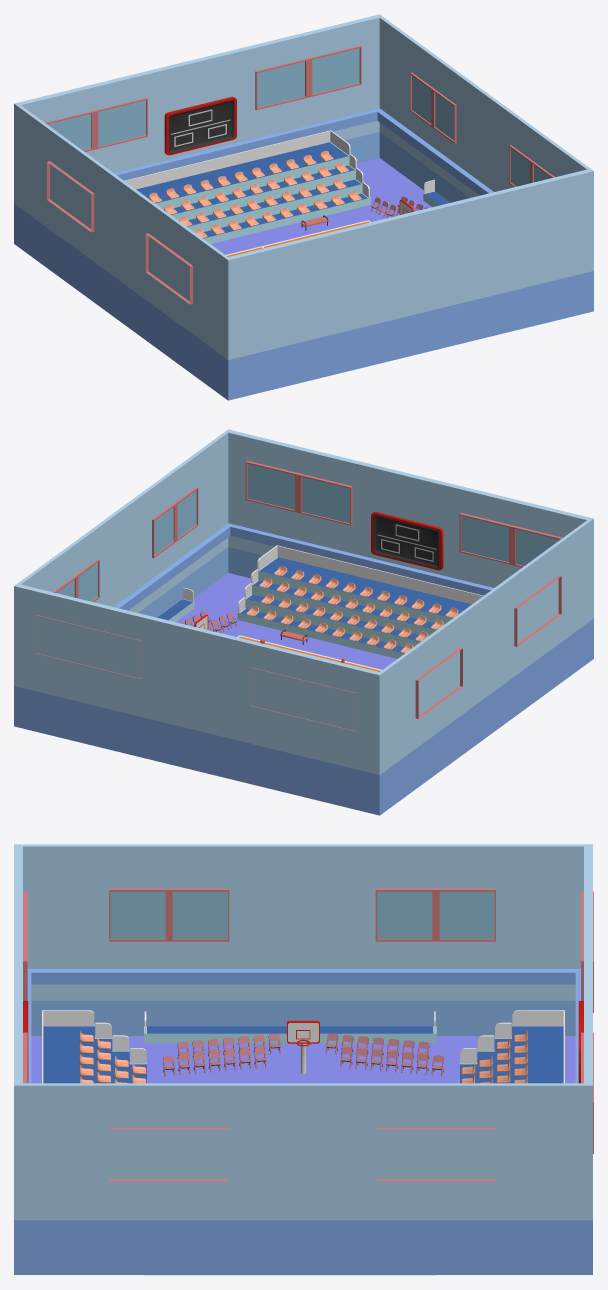
File: New-BasketBall-Court-1.fbx
The picture shows the model from 3 angles, top to bottom: view 1: azimuth 30°, elevation 25°; view 2: azimuth 150°, elevation 25°; view 3: azimuth 270°, elevation 25°; orthographic projection. The views are drawn at different scales.
Parts seen in each view (by area): view 1: Place, Sit, Window.005, Chair.001, Window.002, ScoreTable.001, Window.004, Window.001, Window.007, Window; view 2: Place, Sit.001, Window.003, Chair.002, Window.006, ScoreTable, Window.001, Window.004, Window, SitWall.001, Window.007; view 3: Place, Window.007, Window, Sit.001, Sit, SitWall, Chair.001, Chair.002, Window.001, Window.004, Pota.001.
Boxes of the visible parts, bbox=[...] form: Place: bbox=[14, 14, 593, 400]; Sit: bbox=[124, 130, 370, 243]; Window.005: bbox=[255, 45, 361, 110]; Chair.001: bbox=[148, 150, 361, 237]; Window.002: bbox=[45, 98, 147, 151]; ScoreTable.001: bbox=[164, 96, 236, 155]; Window.004: bbox=[410, 72, 456, 143]; Window.001: bbox=[509, 145, 554, 187]; Window.007: bbox=[47, 161, 94, 232]; Window: bbox=[145, 233, 192, 304]; Place: bbox=[14, 429, 593, 815]; Sit.001: bbox=[237, 545, 483, 658]; Window.003: bbox=[245, 460, 352, 525]; Chair.002: bbox=[246, 566, 458, 653]; Window.006: bbox=[459, 513, 562, 567]; ScoreTable: bbox=[371, 511, 443, 570]; Window.001: bbox=[152, 487, 198, 558]; Window.004: bbox=[53, 559, 99, 602]; Window: bbox=[514, 575, 561, 646]; SitWall.001: bbox=[157, 587, 194, 621]; Window.007: bbox=[415, 647, 462, 718]; Place: bbox=[14, 844, 592, 1274]; Window.007: bbox=[375, 888, 495, 941]; Window: bbox=[109, 888, 229, 941]; Sit.001: bbox=[42, 1010, 146, 1083]; Sit: bbox=[460, 1010, 564, 1083]; SitWall: bbox=[144, 1011, 436, 1043]; Chair.001: bbox=[461, 1031, 527, 1083]; Chair.002: bbox=[79, 1031, 146, 1083]; Window.001: bbox=[109, 1127, 229, 1181]; Window.004: bbox=[375, 1127, 495, 1181]; Pota.001: bbox=[287, 1020, 319, 1043].
Bounding box in the file's own units: 134 × 49.19 × 134.
